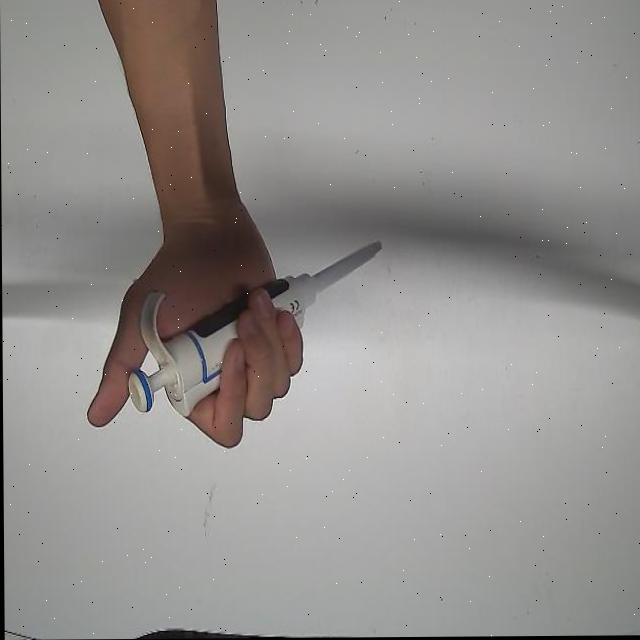Single Channel Pipettor: (125, 239, 386, 422)
